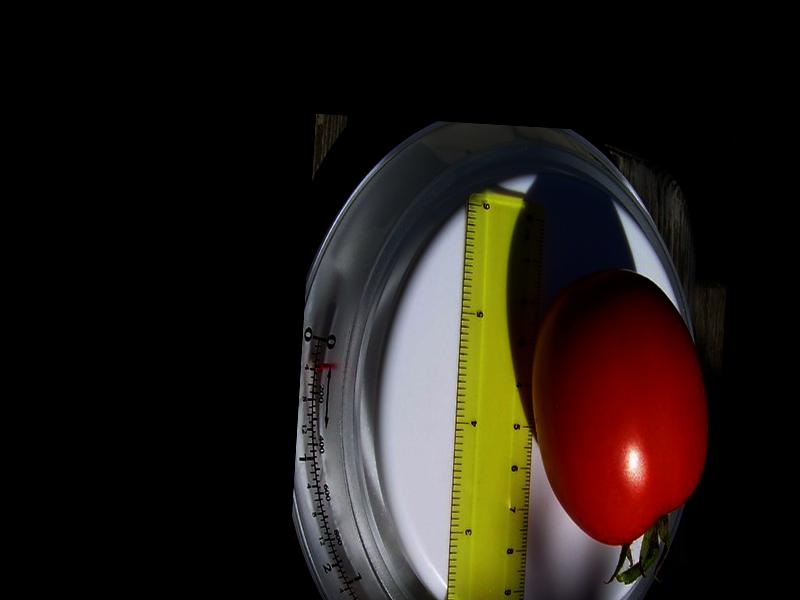Tomato: (517, 265, 719, 551)
